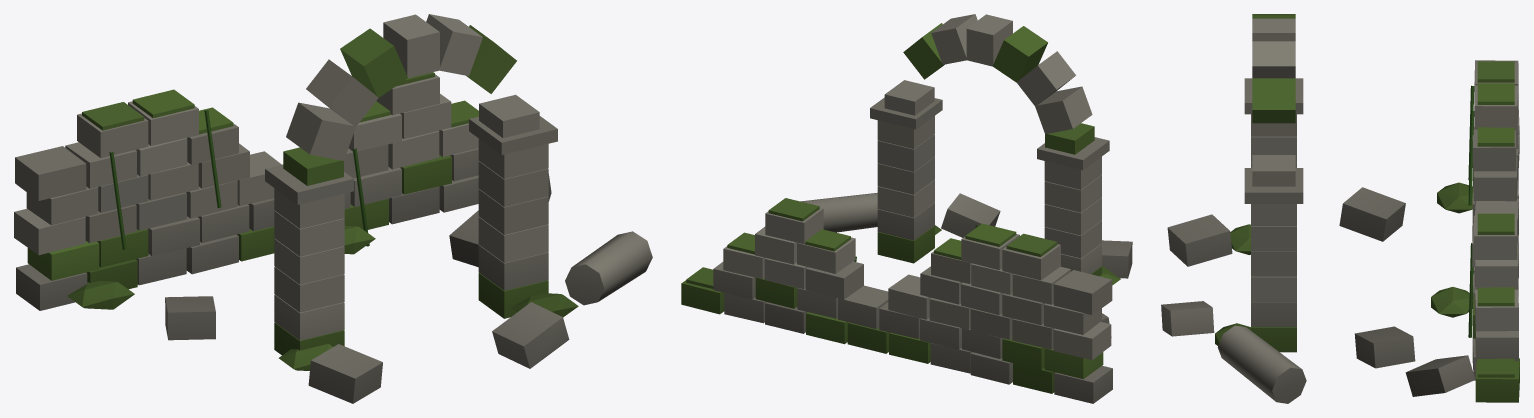
The model's file is ruina_de_pedra.glb.
3 views of the same model, side by side, from view 1: azimuth 30°, elevation 25°; view 2: azimuth 150°, elevation 25°; view 3: azimuth 270°, elevation 25° (orthographic). The views are drawn at different scales.
Visible parts, largest first — view 1: ruina_de_pedra_liso; view 2: ruina_de_pedra_liso; view 3: ruina_de_pedra_liso.
Part boxes in pixels (x1,y1,x2,y2): ruina_de_pedra_liso: (14, 14, 652, 403); ruina_de_pedra_liso: (681, 14, 1132, 403); ruina_de_pedra_liso: (1161, 14, 1519, 403).
Size of the model in its own units: 8.46 by 5.06 by 5.82.
